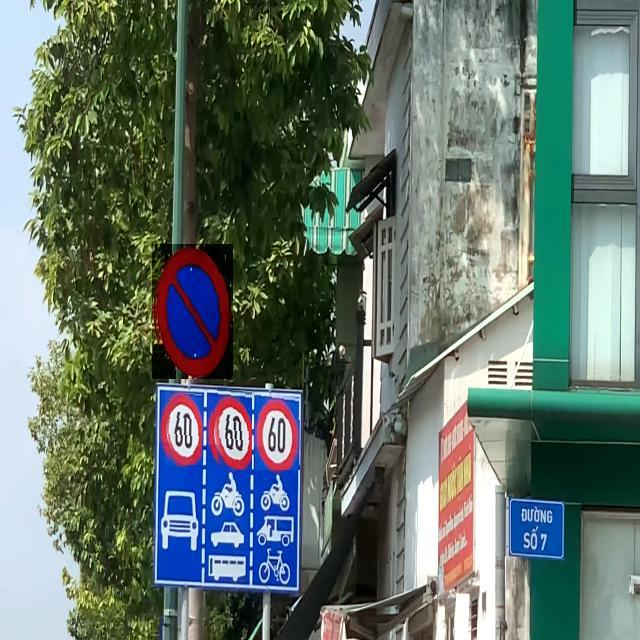P-127: (255, 393, 300, 470), (210, 388, 252, 470), (165, 391, 202, 465)
P-131a: (152, 244, 233, 379)
